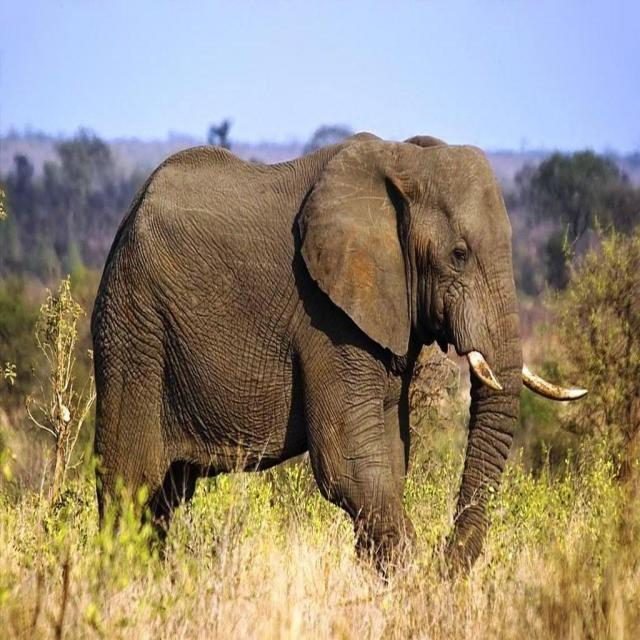Elephant: (90, 134, 522, 566)
